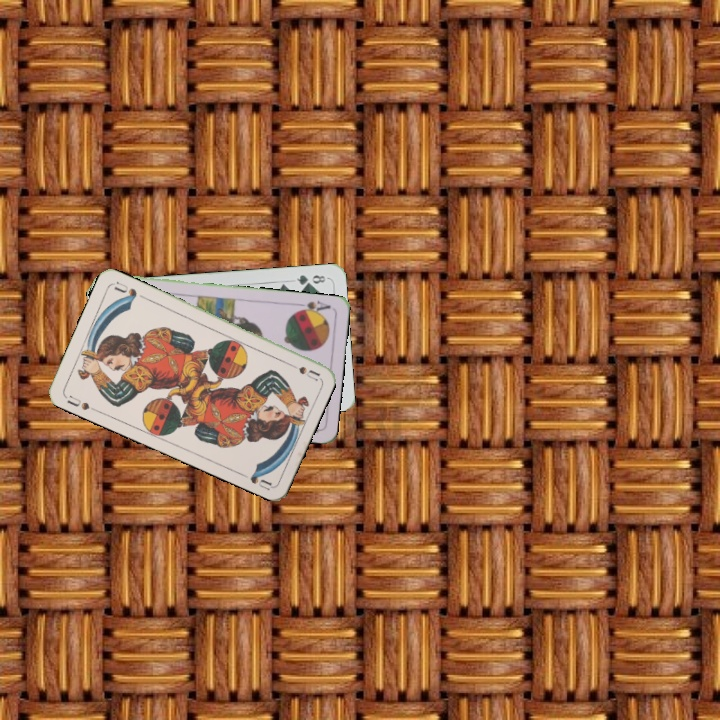G8: (293, 271, 328, 288)
SA: (292, 297, 333, 317)
SU: (282, 358, 322, 383), (63, 391, 92, 413)
